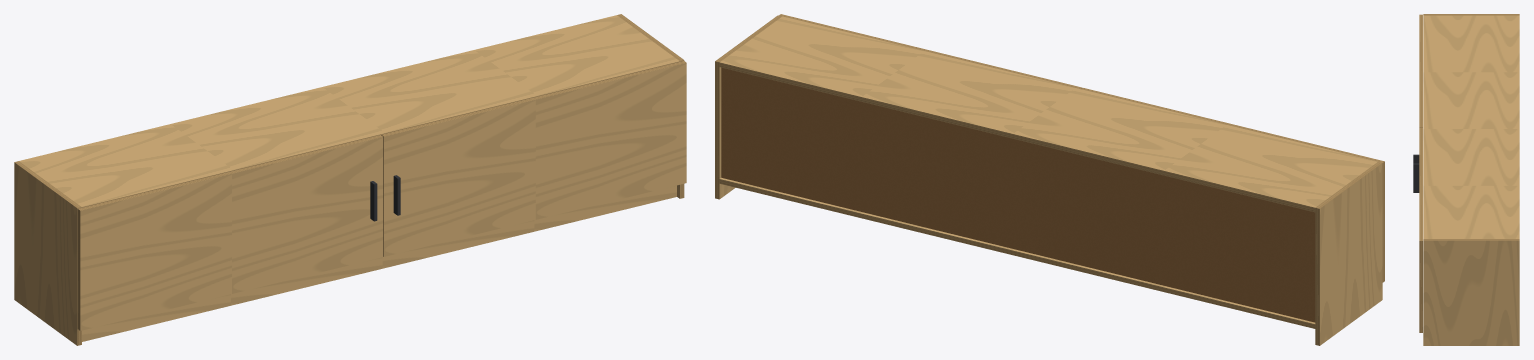
The model's file is HIN-MED-long.glb.
The picture shows the model from 3 angles, left to right: view 1: azimuth 30°, elevation 25°; view 2: azimuth 150°, elevation 25°; view 3: azimuth 270°, elevation 25°; orthographic projection. The views are drawn at different scales.
Parts seen in each view (by area): view 1: top:sheet:eyJtIjoicGx5Iiwic2lkZSI6ImZhY2UiLCJzZWVkIjo2LCJ2ZW, door-l:sheet:eyJtIjoicGx5Iiwic2lkZSI6ImZhY2UiLCJzZWVkIjoyLCJ, door-r:sheet:eyJtIjoicGx5Iiwic2lkZSI6ImZhY2UiLCJzZWVkIjoyLCJ, side-l:sheet:eyJtIjoicGx5Iiwic2lkZSI6ImZhY2UiLCJzZWVkIjoxLCJ, plinth:sheet:eyJtIjoicGx5Iiwic2lkZSI6ImZhY2UiLCJzZWVkIjozLCJ, door-l:sheet:eyJtIjoicGx5Iiwic2lkZSI6ImVkZ2UtbG9uZyIsInNlZWQ, door-r:sheet:eyJtIjoicGx5Iiwic2lkZSI6ImVkZ2UtbG9uZyIsInNlZWQ, top:sheet:eyJtIjoicGx5Iiwic2lkZSI6ImVkZ2UtbG9uZyIsInNlZWQiOj, pull; view 2: back:sheet:eyJtIjoibWRmIiwic2lkZSI6ImZhY2UiLCJzZWVkIjoxLCJ0a, top:sheet:eyJtIjoicGx5Iiwic2lkZSI6ImZhY2UiLCJzZWVkIjo2LCJ2ZW, side-l:sheet:eyJtIjoicGx5Iiwic2lkZSI6ImZhY2UiLCJzZWVkIjoxLCJ, top:sheet:eyJtIjoicGx5Iiwic2lkZSI6ImVkZ2UtbG9uZyIsInNlZWQiOj, bottom:sheet:eyJtIjoicGx5Iiwic2lkZSI6ImVkZ2UtbG9uZyIsInNlZWQ, bottom:sheet:eyJtIjoicGx5Iiwic2lkZSI6ImZhY2UiLCJzZWVkIjowLCJ, door-l:sheet:eyJtIjoicGx5Iiwic2lkZSI6ImVkZ2UtbG9uZyIsInNlZWQ, door-r:sheet:eyJtIjoicGx5Iiwic2lkZSI6ImVkZ2UtbG9uZyIsInNlZWQ, side-l:sheet:eyJtIjoicGx5Iiwic2lkZSI6ImVkZ2UtbG9uZyIsInNlZWQ, side-r:sheet:eyJtIjoicGx5Iiwic2lkZSI6ImVkZ2UtbG9uZyIsInNlZWQ; view 3: top:sheet:eyJtIjoicGx5Iiwic2lkZSI6ImZhY2UiLCJzZWVkIjo2LCJ2ZW, side-r:sheet:eyJtIjoicGx5Iiwic2lkZSI6ImZhY2UiLCJzZWVkIjozLCJ, door-l:sheet:eyJtIjoicGx5Iiwic2lkZSI6ImVkZ2UtbG9uZyIsInNlZWQ, door-r:sheet:eyJtIjoicGx5Iiwic2lkZSI6ImVkZ2UtbG9uZyIsInNlZWQ, door-r:sheet:eyJtIjoicGx5Iiwic2lkZSI6ImVkZ2UtZW5kIiwic2VlZCI, pull, side-l:sheet:eyJtIjoicGx5Iiwic2lkZSI6ImVkZ2UtZW5kIiwic2VlZCI, side-r:sheet:eyJtIjoicGx5Iiwic2lkZSI6ImVkZ2UtZW5kIiwic2VlZCI.
Boxes of the visible parts, x1,y1,x2,y2 form: top:sheet:eyJtIjoicGx5Iiwic2lkZSI6ImZhY2UiLCJzZWVkIjo2LCJ2ZW: (19,15,679,206); door-l:sheet:eyJtIjoicGx5Iiwic2lkZSI6ImZhY2UiLCJzZWVkIjoyLCJ: (80,137,383,330); door-r:sheet:eyJtIjoicGx5Iiwic2lkZSI6ImZhY2UiLCJzZWVkIjoyLCJ: (384,63,686,256); side-l:sheet:eyJtIjoicGx5Iiwic2lkZSI6ImZhY2UiLCJzZWVkIjoxLCJ: (14,162,77,345); plinth:sheet:eyJtIjoicGx5Iiwic2lkZSI6ImZhY2UiLCJzZWVkIjozLCJ: (82,185,676,341); door-l:sheet:eyJtIjoicGx5Iiwic2lkZSI6ImVkZ2UtbG9uZyIsInNlZWQ: (78,135,382,210); door-r:sheet:eyJtIjoicGx5Iiwic2lkZSI6ImVkZ2UtbG9uZyIsInNlZWQ: (381,61,686,136); top:sheet:eyJtIjoicGx5Iiwic2lkZSI6ImVkZ2UtbG9uZyIsInNlZWQiOj: (82,61,679,207); pull: (370,175,400,221); back:sheet:eyJtIjoibWRmIiwic2lkZSI6ImZhY2UiLCJzZWVkIjoxLCJ0a: (721,67,1315,322); top:sheet:eyJtIjoicGx5Iiwic2lkZSI6ImZhY2UiLCJzZWVkIjo2LCJ2ZW: (720,16,1377,207); side-l:sheet:eyJtIjoicGx5Iiwic2lkZSI6ImZhY2UiLCJzZWVkIjoxLCJ: (1320,163,1382,345); top:sheet:eyJtIjoicGx5Iiwic2lkZSI6ImVkZ2UtbG9uZyIsInNlZWQiOj: (719,62,1315,212); bottom:sheet:eyJtIjoicGx5Iiwic2lkZSI6ImVkZ2UtbG9uZyIsInNlZWQ: (719,179,1315,328); bottom:sheet:eyJtIjoicGx5Iiwic2lkZSI6ImZhY2UiLCJzZWVkIjowLCJ: (720,177,1315,323); door-l:sheet:eyJtIjoicGx5Iiwic2lkZSI6ImVkZ2UtbG9uZyIsInNlZWQ: (1081,88,1384,162); door-r:sheet:eyJtIjoicGx5Iiwic2lkZSI6ImVkZ2UtbG9uZyIsInNlZWQ: (779,14,1081,88); side-l:sheet:eyJtIjoicGx5Iiwic2lkZSI6ImVkZ2UtbG9uZyIsInNlZWQ: (1315,208,1319,345); side-r:sheet:eyJtIjoicGx5Iiwic2lkZSI6ImVkZ2UtbG9uZyIsInNlZWQ: (715,61,719,199); top:sheet:eyJtIjoicGx5Iiwic2lkZSI6ImZhY2UiLCJzZWVkIjo2LCJ2ZW: (1423,15,1519,238); side-r:sheet:eyJtIjoicGx5Iiwic2lkZSI6ImZhY2UiLCJzZWVkIjozLCJ: (1423,240,1519,345); door-l:sheet:eyJtIjoicGx5Iiwic2lkZSI6ImVkZ2UtbG9uZyIsInNlZWQ: (1419,14,1422,127); door-r:sheet:eyJtIjoicGx5Iiwic2lkZSI6ImVkZ2UtbG9uZyIsInNlZWQ: (1419,128,1422,240); door-r:sheet:eyJtIjoicGx5Iiwic2lkZSI6ImVkZ2UtZW5kIiwic2VlZCI: (1419,241,1422,332); pull: (1413,154,1419,192); side-l:sheet:eyJtIjoicGx5Iiwic2lkZSI6ImVkZ2UtZW5kIiwic2VlZCI: (1423,14,1519,15); side-r:sheet:eyJtIjoicGx5Iiwic2lkZSI6ImVkZ2UtZW5kIiwic2VlZCI: (1423,239,1519,240).
Bounding box in the file's own units: 2.4 × 0.52 × 0.4769.
34 materials, 33 textured.
